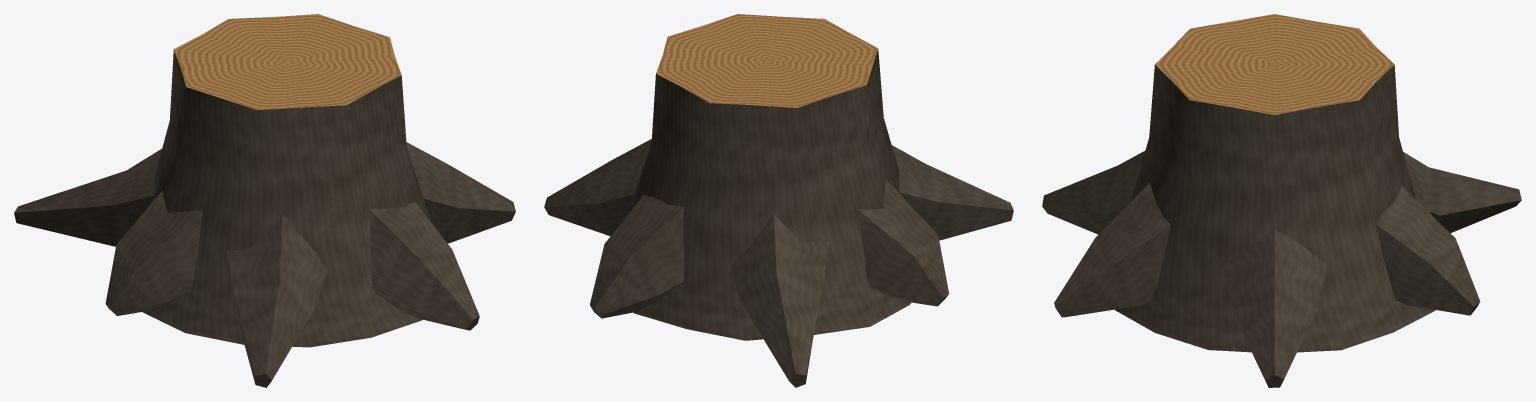
File: SS_Stump_01_LOD1.fbx
3 views of the same model, side by side, from view 1: azimuth 30°, elevation 25°; view 2: azimuth 150°, elevation 25°; view 3: azimuth 270°, elevation 25° (orthographic). The views are drawn at different scales.
Visible parts, largest first — view 1: SS_Stump_01_LOD1_Mesh; view 2: SS_Stump_01_LOD1_Mesh; view 3: SS_Stump_01_LOD1_Mesh.
Boxes of the visible parts, x1,y1,x2,y2 form: SS_Stump_01_LOD1_Mesh: (14,14,515,387); SS_Stump_01_LOD1_Mesh: (544,14,1013,387); SS_Stump_01_LOD1_Mesh: (1042,14,1521,387).
Size of the model in its own units: 89.44 by 45.02 by 89.75.
